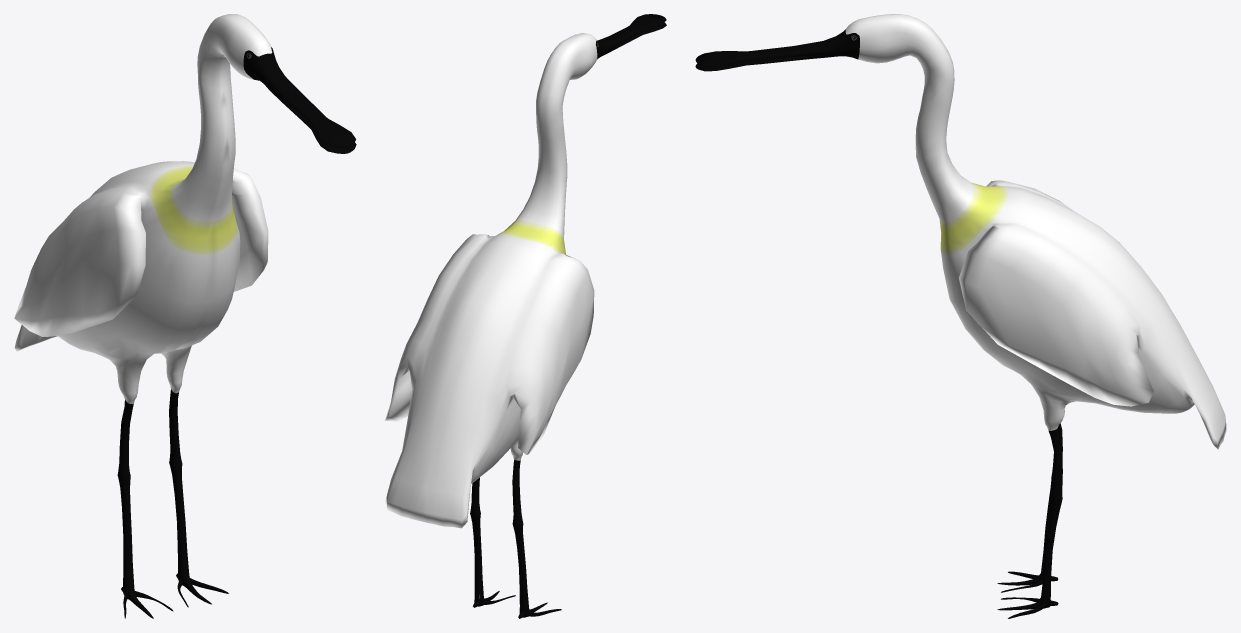
Rendered from littlebirdbird.fbx.
3 views of the same model, side by side, from view 1: azimuth 30°, elevation 25°; view 2: azimuth 150°, elevation 25°; view 3: azimuth 270°, elevation 25° (orthographic). The views are drawn at different scales.
Visible parts, largest first — view 1: Box001; view 2: Box001; view 3: Box001.
Part boxes in pixels (x1=…): Box001: x1=14, y1=14, x2=356, y2=618; Box001: x1=385, y1=14, x2=666, y2=618; Box001: x1=695, y1=14, x2=1226, y2=618.
Bounding box in the file's own units: 20.77 × 72.15 × 59.75.
1 material, 1 textured.
